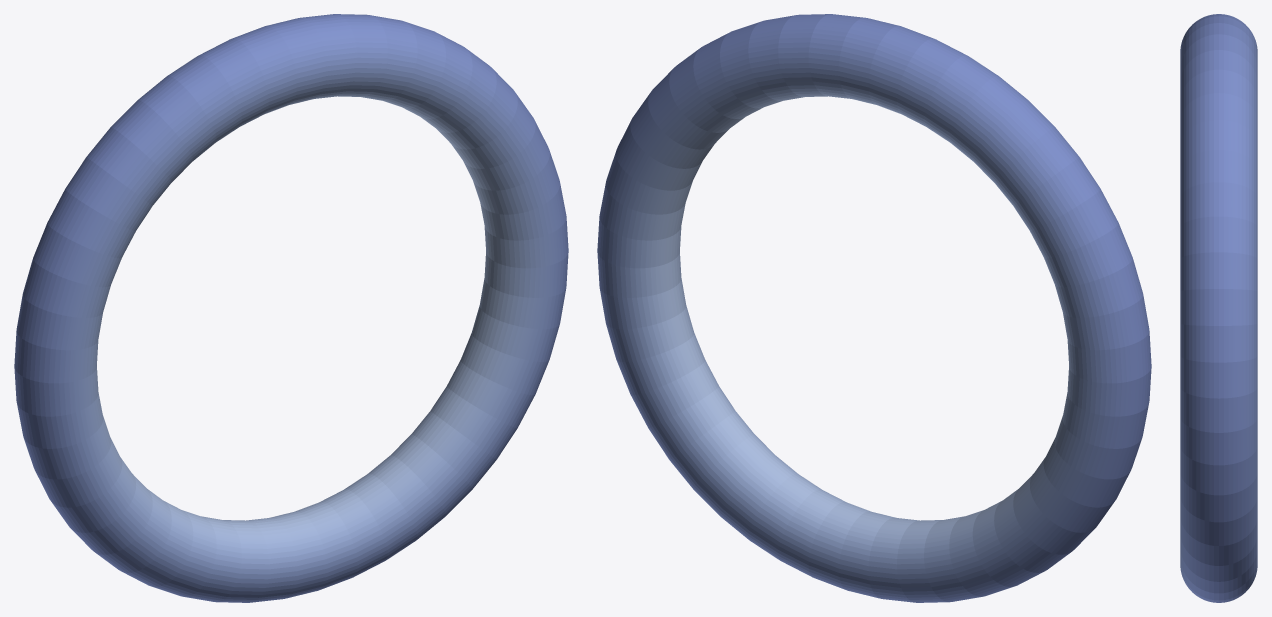
3 renders of one model, left to right at view 1: azimuth 30°, elevation 25°; view 2: azimuth 150°, elevation 25°; view 3: azimuth 270°, elevation 25°, orthographic. The views are drawn at different scales.
Visible parts, largest first — view 1: world; view 2: world; view 3: world.
Boxes of the visible parts, <box> form: world: <box>14,14,568,602</box>; world: <box>597,14,1151,602</box>; world: <box>1180,14,1257,602</box>.
Bounding box in the file's own units: 25.33 × 25.28 × 3.33.
